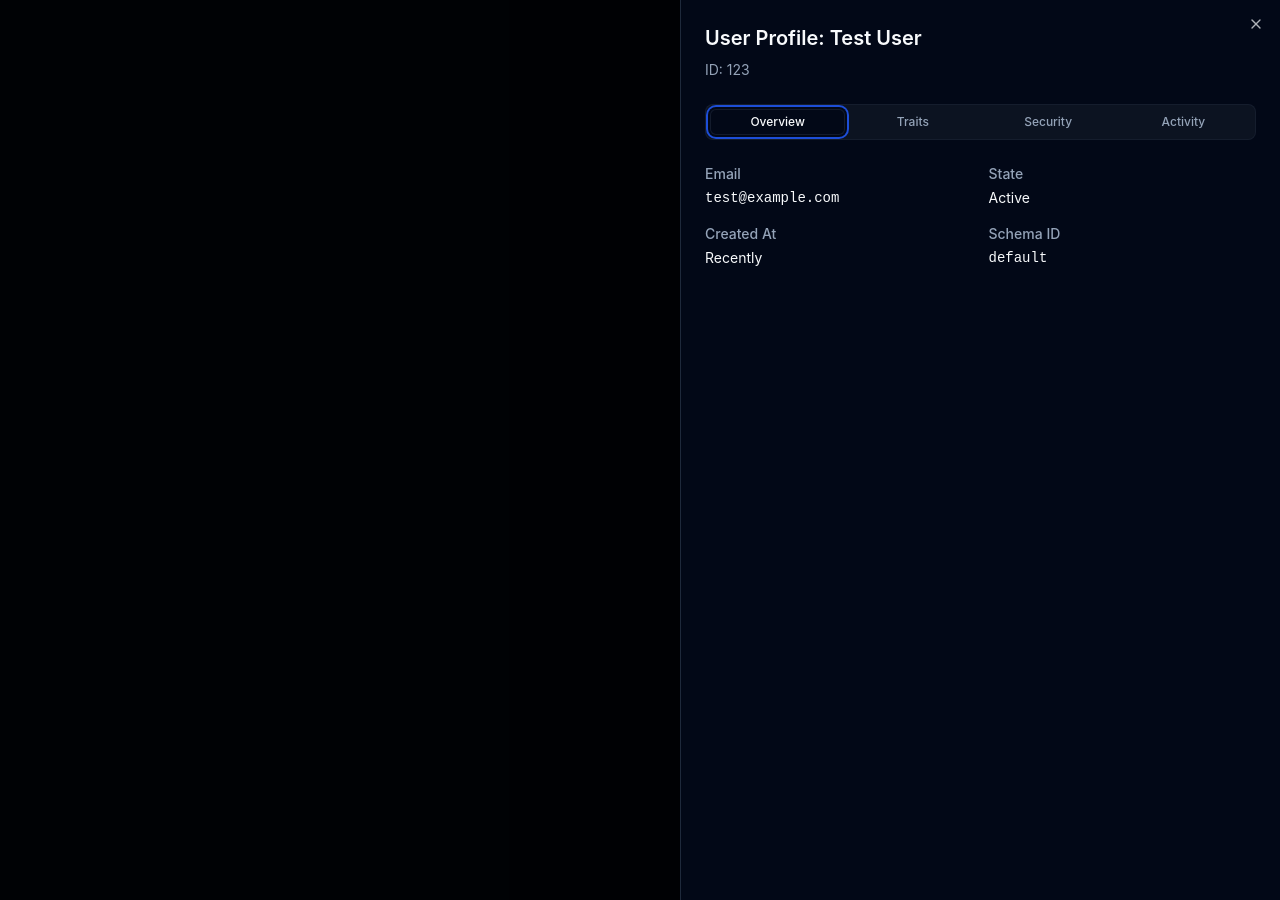
it: IdentitySheet › renders tabs and complete UI
Expected: the tab "Overview" is shown, [710,109,845,135]
Expected: the tab "Traits" is shown, [845,110,981,134]
# Click Security Tab
Click the tab "Security" at [1048, 122], box [980,110,1116,134]
(page scrolled)
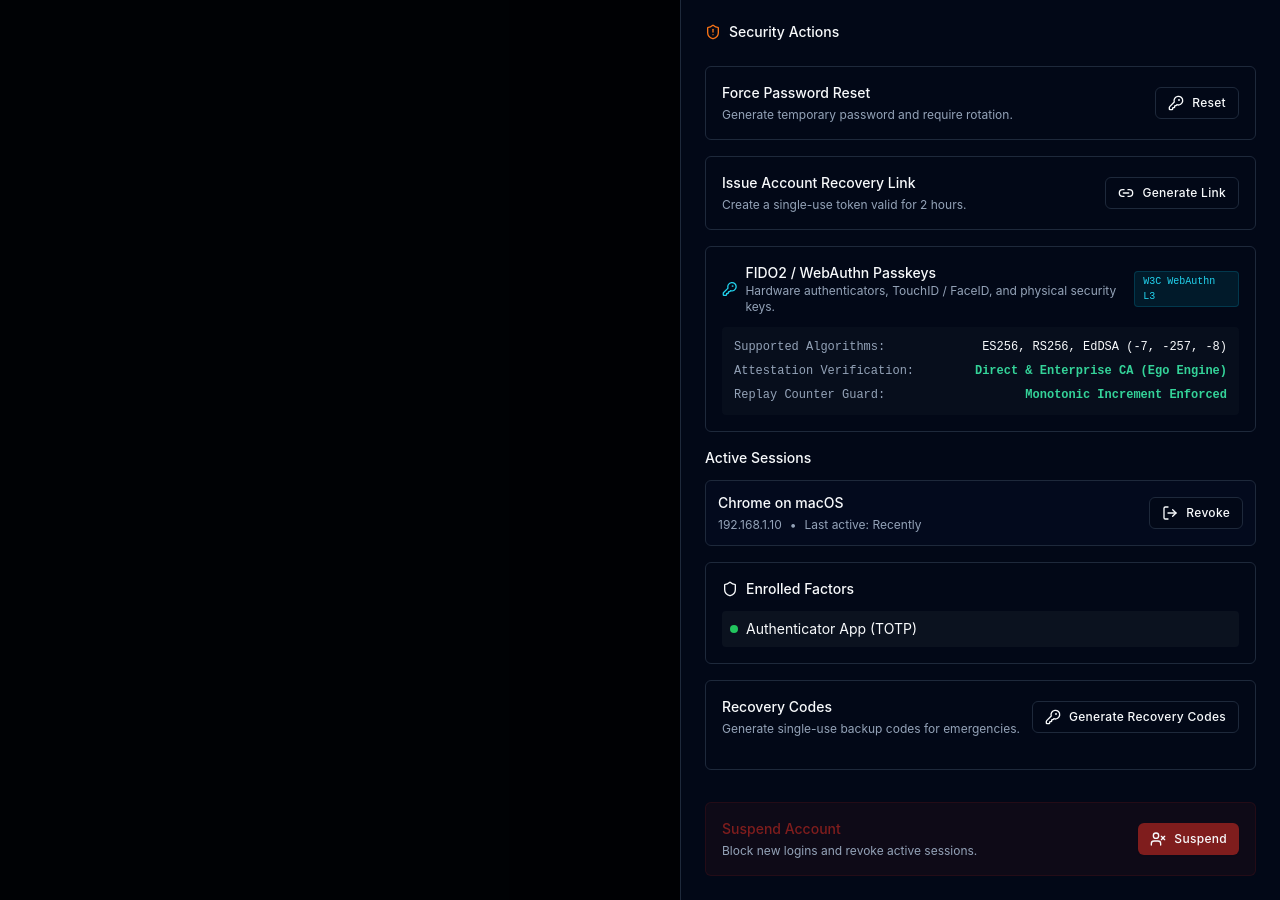
Result: the heading "Force Password Reset" is shown at [722,84,870,101]
Result: the heading "Active Sessions" is shown at [705,449,811,466]
Result: the heading "Enrolled Factors" is shown at [722,580,854,597]
